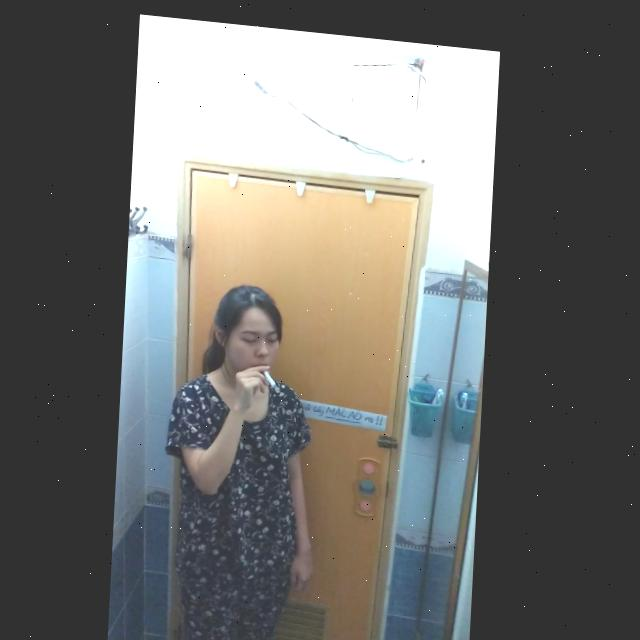cigarette: (266, 363, 281, 382)
